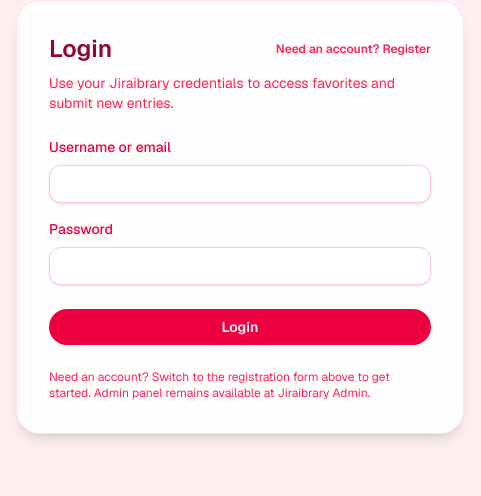
Test: LoginPage › surfaces API errors when login fails
The image size is (481, 496).
In the field labelled "Username or email": (240, 184) [49, 165, 431, 203], type "jane"
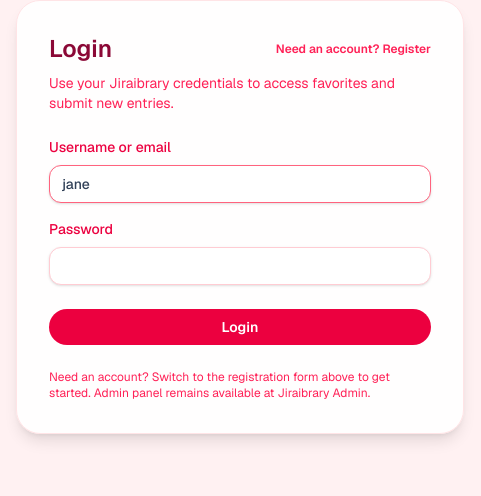
In the password field labelled "Password": (240, 266) [49, 247, 431, 285], type "wrong"
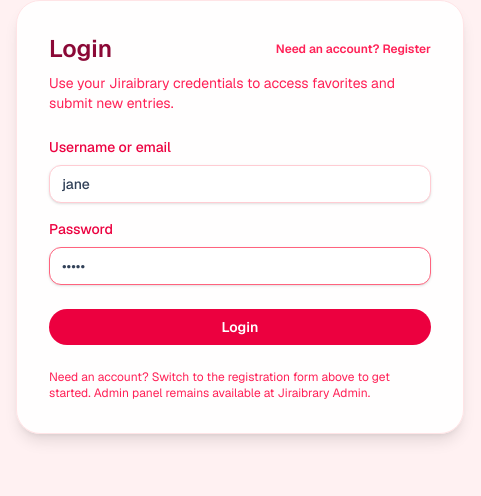
Click the button "Login": click(240, 327) [49, 309, 431, 345]
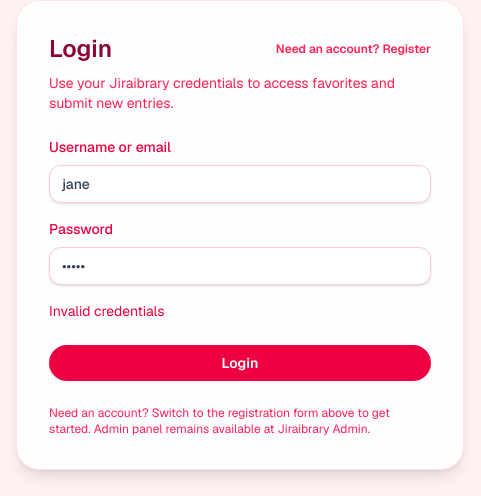
Expected: the text "Invalid credentials" is shown, [49, 302, 164, 320]
